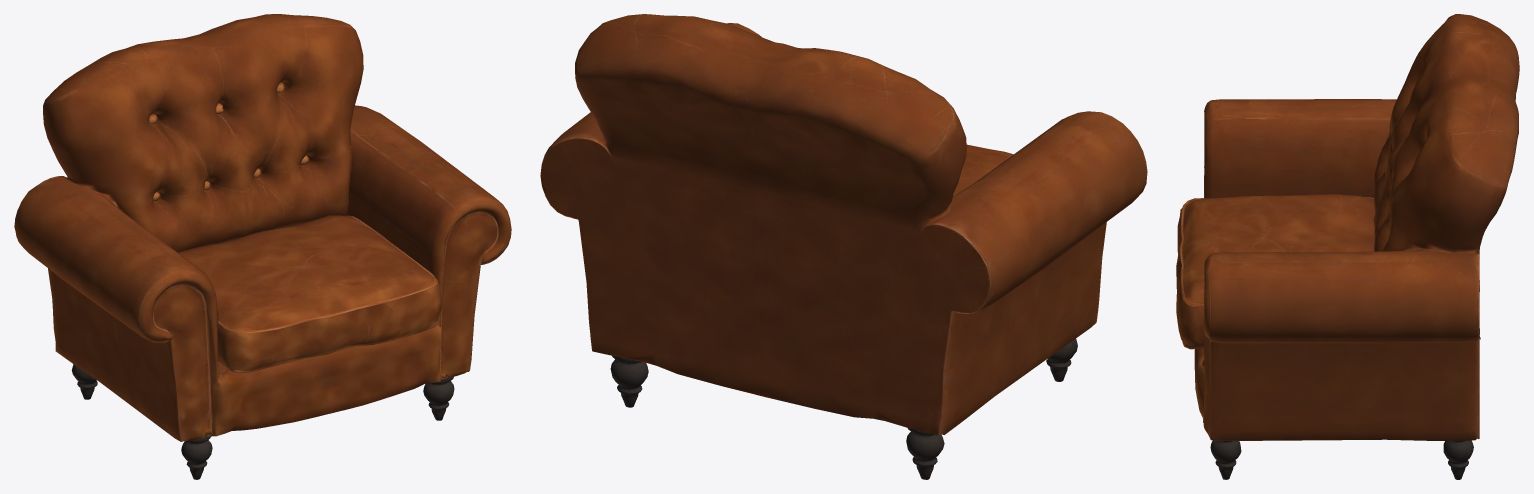
File: armchair.glb
3 renders of one model, left to right at view 1: azimuth 30°, elevation 25°; view 2: azimuth 150°, elevation 25°; view 3: azimuth 270°, elevation 25°, orthographic. The views are drawn at different scales.
Bounding box in the file's own units: 1.13 × 0.95 × 0.8413.
1 material, 1 textured.
